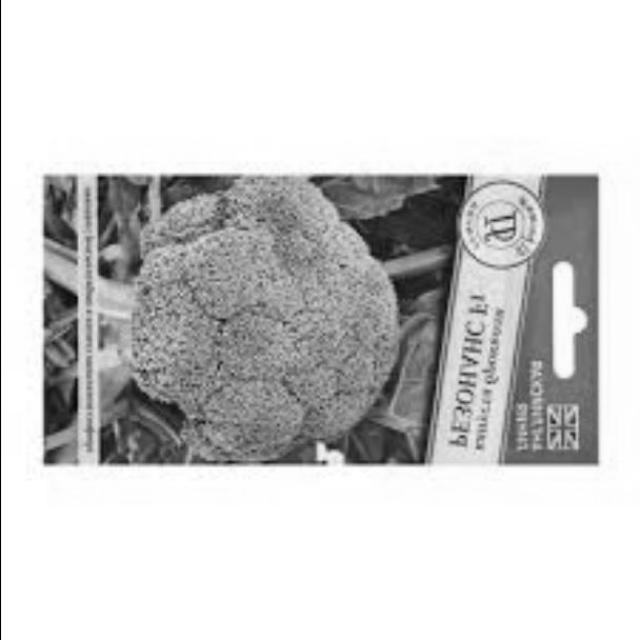broccoli: (127, 129, 414, 456)
